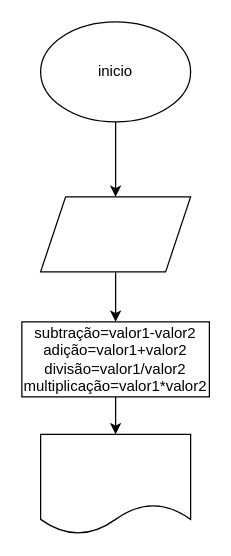
This 231x556 diagram has some shape labels left out. Each missing label, with the centre of its shape:
"subtração adição divisão multiplicação" goes at point 115,483.
"valor 1, valor 2" goes at point 115,234.
